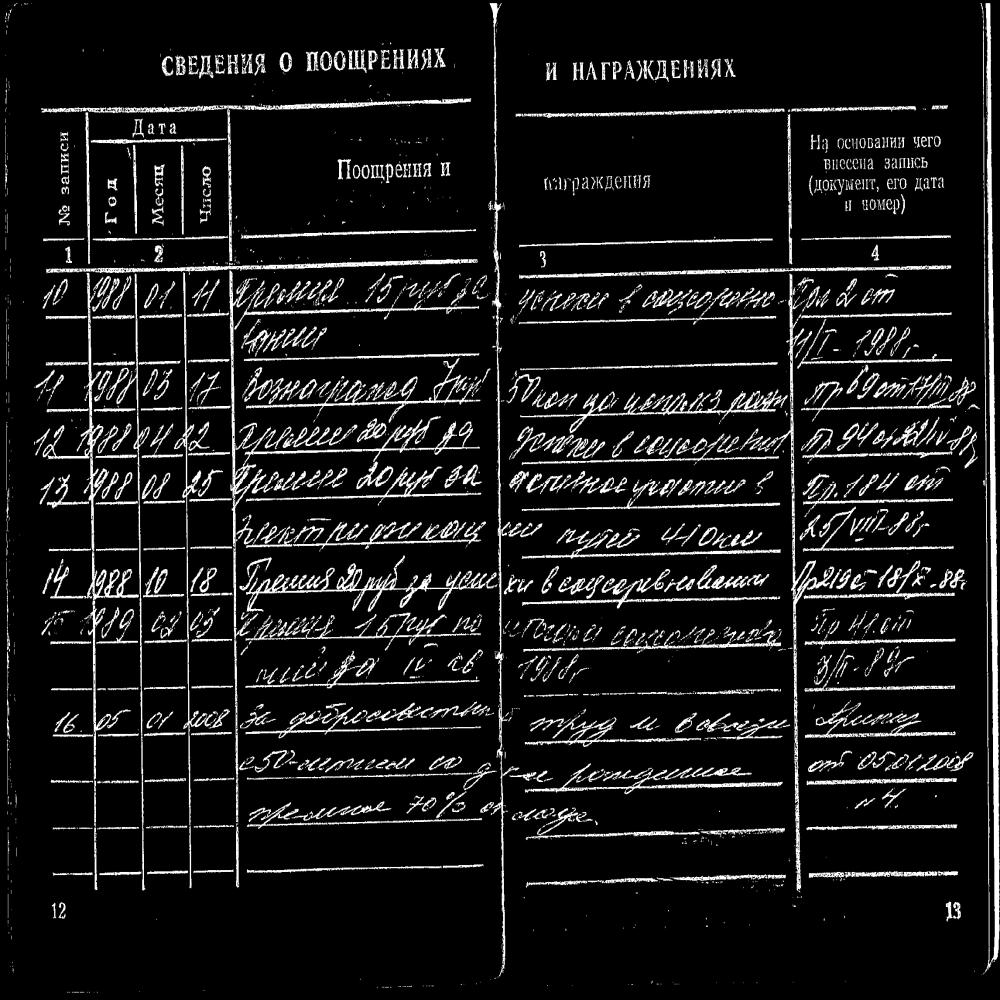rus: (230, 640, 595, 704), (508, 360, 793, 416), (238, 687, 496, 748), (237, 362, 494, 419), (236, 504, 484, 556), (239, 600, 487, 651), (231, 457, 481, 506), (238, 740, 470, 790), (26, 409, 223, 464), (529, 706, 788, 746), (34, 361, 224, 414), (28, 596, 229, 644), (27, 548, 229, 595), (805, 356, 984, 408), (22, 456, 225, 500), (39, 270, 224, 317), (613, 418, 790, 466), (794, 270, 954, 322), (43, 690, 232, 734), (508, 613, 786, 642), (798, 414, 983, 457), (242, 787, 383, 842), (623, 276, 781, 325), (237, 554, 397, 601), (546, 565, 772, 598), (284, 44, 458, 86), (505, 468, 770, 495), (798, 318, 953, 364), (796, 498, 937, 548), (236, 422, 476, 451), (482, 753, 760, 778), (365, 261, 492, 314), (803, 740, 974, 779), (798, 461, 958, 501), (793, 559, 974, 593), (232, 267, 352, 317), (814, 685, 934, 734), (399, 795, 590, 824), (544, 55, 740, 82), (233, 312, 342, 358), (800, 606, 936, 642), (159, 50, 273, 91), (804, 648, 916, 689), (408, 564, 535, 596), (518, 281, 612, 316), (338, 155, 456, 181), (800, 125, 908, 153), (662, 523, 769, 551), (507, 424, 601, 454), (558, 523, 649, 547), (854, 778, 910, 816), (542, 175, 656, 192), (127, 112, 183, 146), (886, 168, 944, 196), (842, 192, 899, 219), (816, 172, 881, 195), (501, 515, 543, 545), (822, 148, 877, 170), (887, 152, 929, 174), (912, 131, 940, 152), (841, 709, 842, 710)
